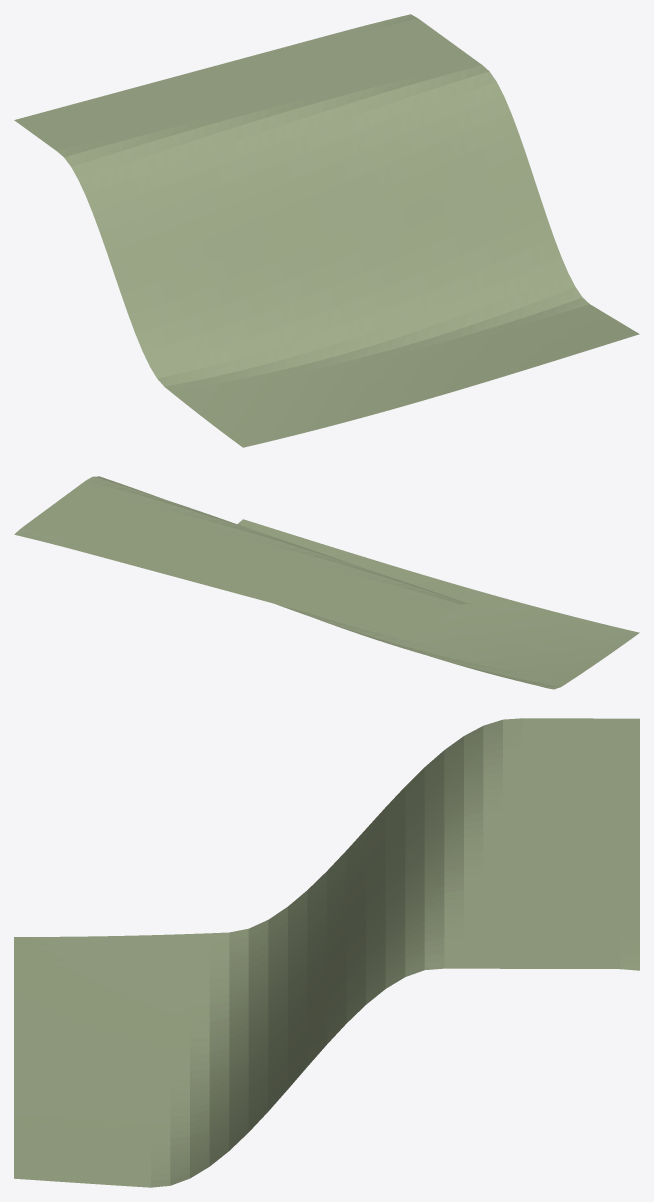
Rendered from alpine-4-11.glb.
3 renders of one model, top to bottom at view 1: azimuth 30°, elevation 25°; view 2: azimuth 150°, elevation 25°; view 3: azimuth 270°, elevation 25°, orthographic. The views are drawn at different scales.
Parts seen in each view (by area): view 1: alpine-4-11; view 2: alpine-4-11; view 3: alpine-4-11.
Boxes of the visible parts, x1=… form: alpine-4-11: x1=14, y1=14, x2=639, y2=447; alpine-4-11: x1=14, y1=476, x2=639, y2=689; alpine-4-11: x1=14, y1=718, x2=639, y2=1187.
Bounding box in the file's own units: 256 × 106 × 256.
